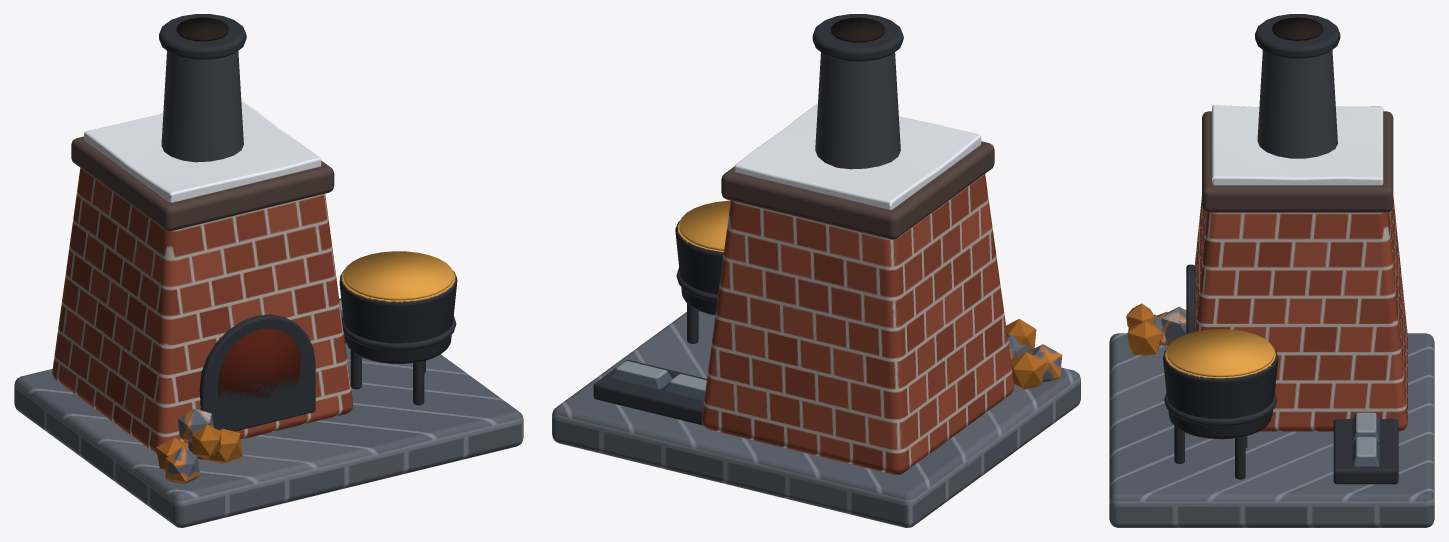
Rendered from station_smelter.glb.
The picture shows the model from 3 angles, left to right: view 1: azimuth 30°, elevation 25°; view 2: azimuth 150°, elevation 25°; view 3: azimuth 270°, elevation 25°; orthographic projection. The views are drawn at different scales.
Parts seen in each view (by area): view 1: band; view 2: band; view 3: band.
Part boxes in pixels (bbox=[...]): band: bbox=[14, 14, 523, 527]; band: bbox=[552, 14, 1080, 527]; band: bbox=[1109, 14, 1434, 527].
Size of the model in its own units: 2.3 by 2.54 by 1.9.
1 material, 1 textured.
